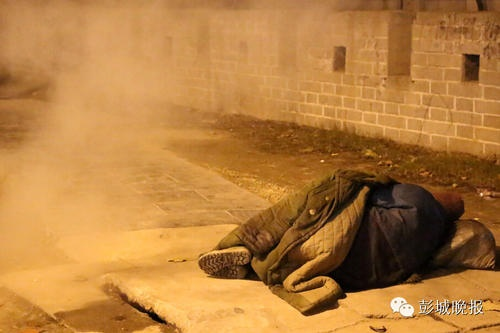falling: (188, 158, 484, 309)
